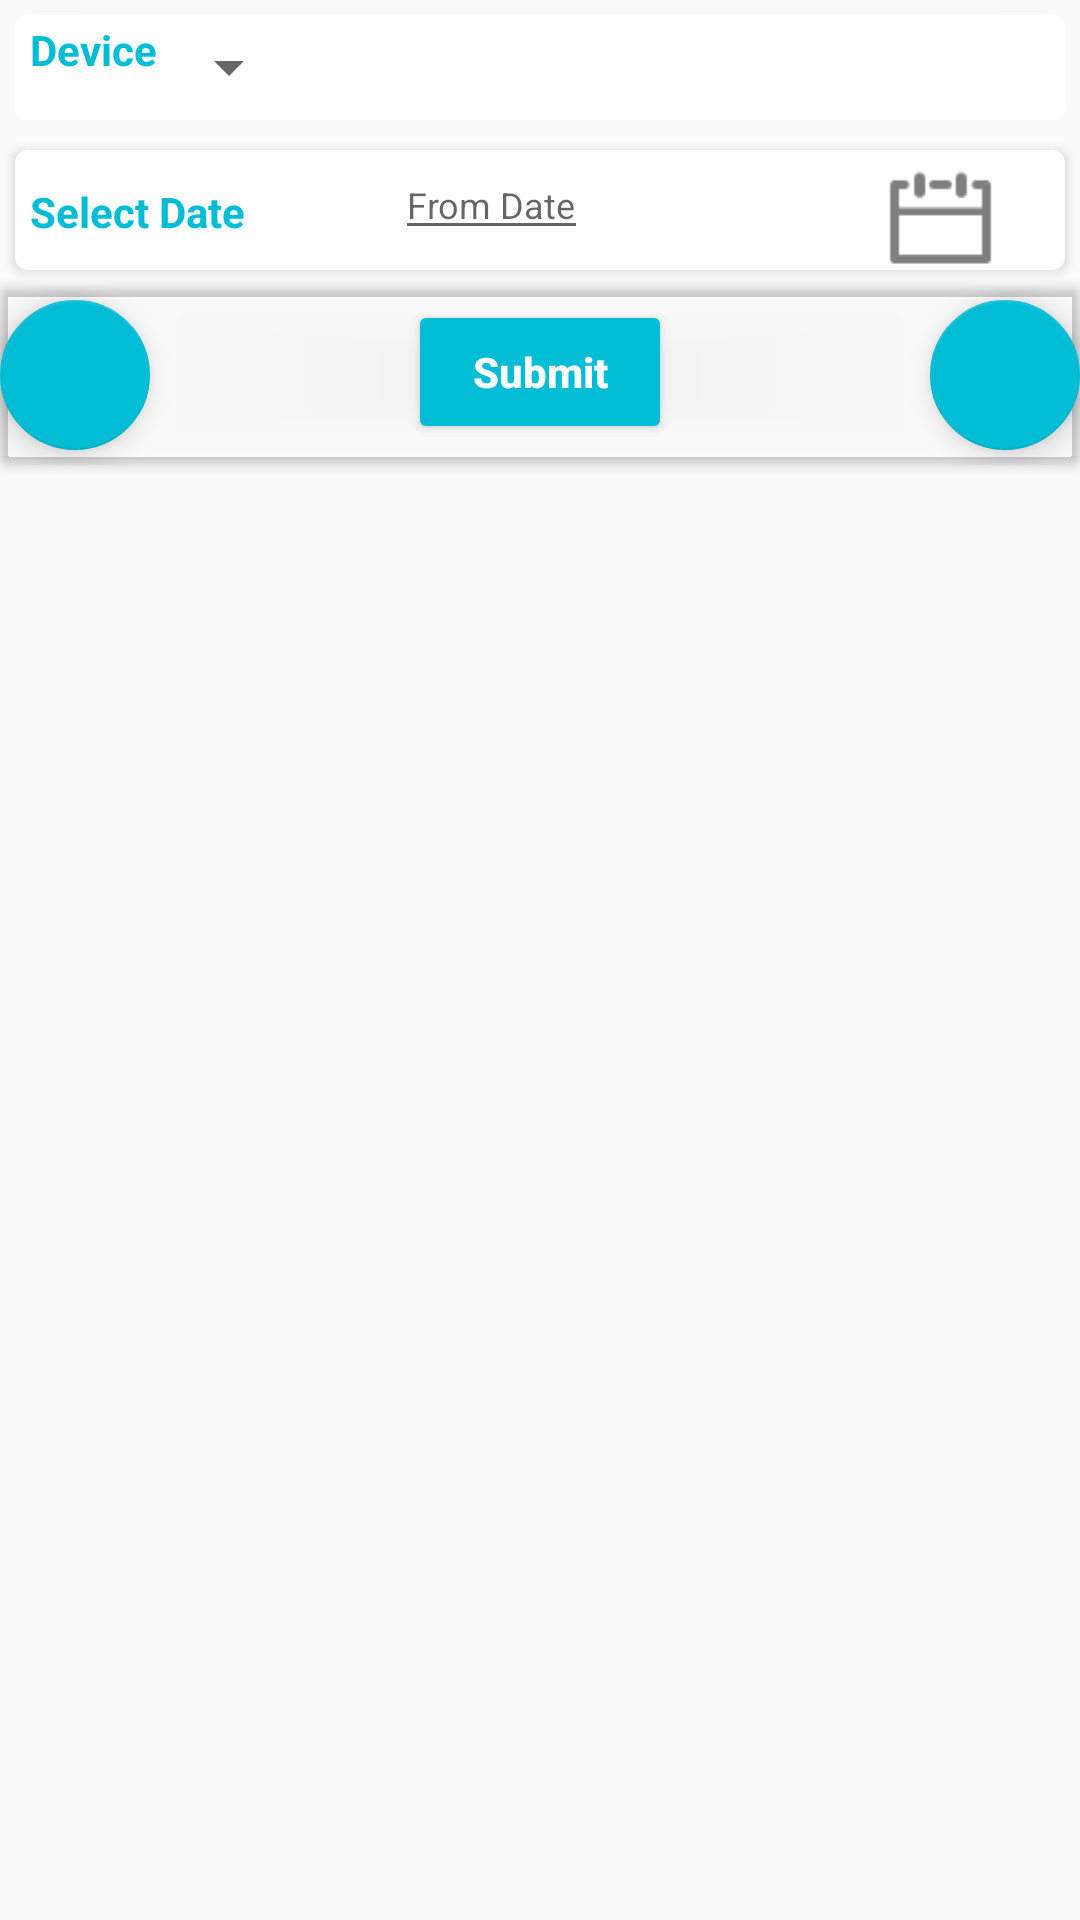

Screen size 1080 × 1920. Icon name, then its center in pixels as [x,y]:
From Date: [940,217]
